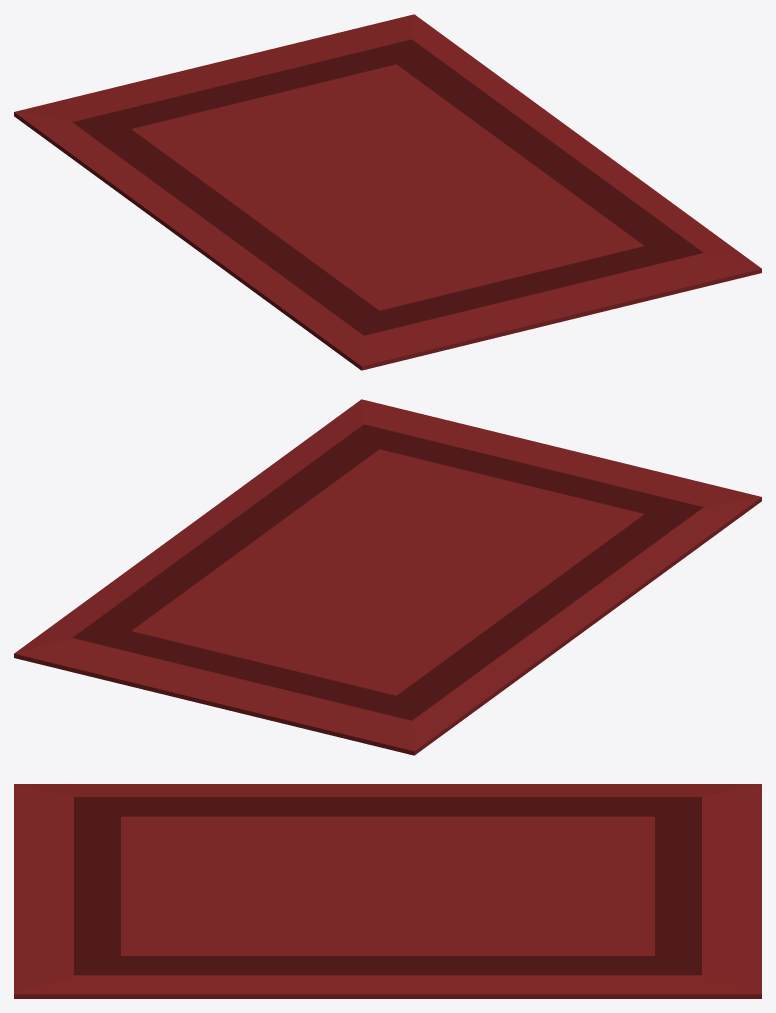
Rendered from MS_BeachTowel.fbx.
3 views of the same model, one above another, from view 1: azimuth 30°, elevation 25°; view 2: azimuth 150°, elevation 25°; view 3: azimuth 270°, elevation 25° (orthographic). The views are drawn at different scales.
Visible parts, largest first — view 1: pCube1; view 2: pCube1; view 3: pCube1.
Part boxes in pixels (x1=…): pCube1: x1=14, y1=14, x2=761, y2=370; pCube1: x1=14, y1=399, x2=761, y2=755; pCube1: x1=14, y1=784, x2=761, y2=998.
Bounding box in the file's own units: 7.96 × 0.1346 × 11.97.
